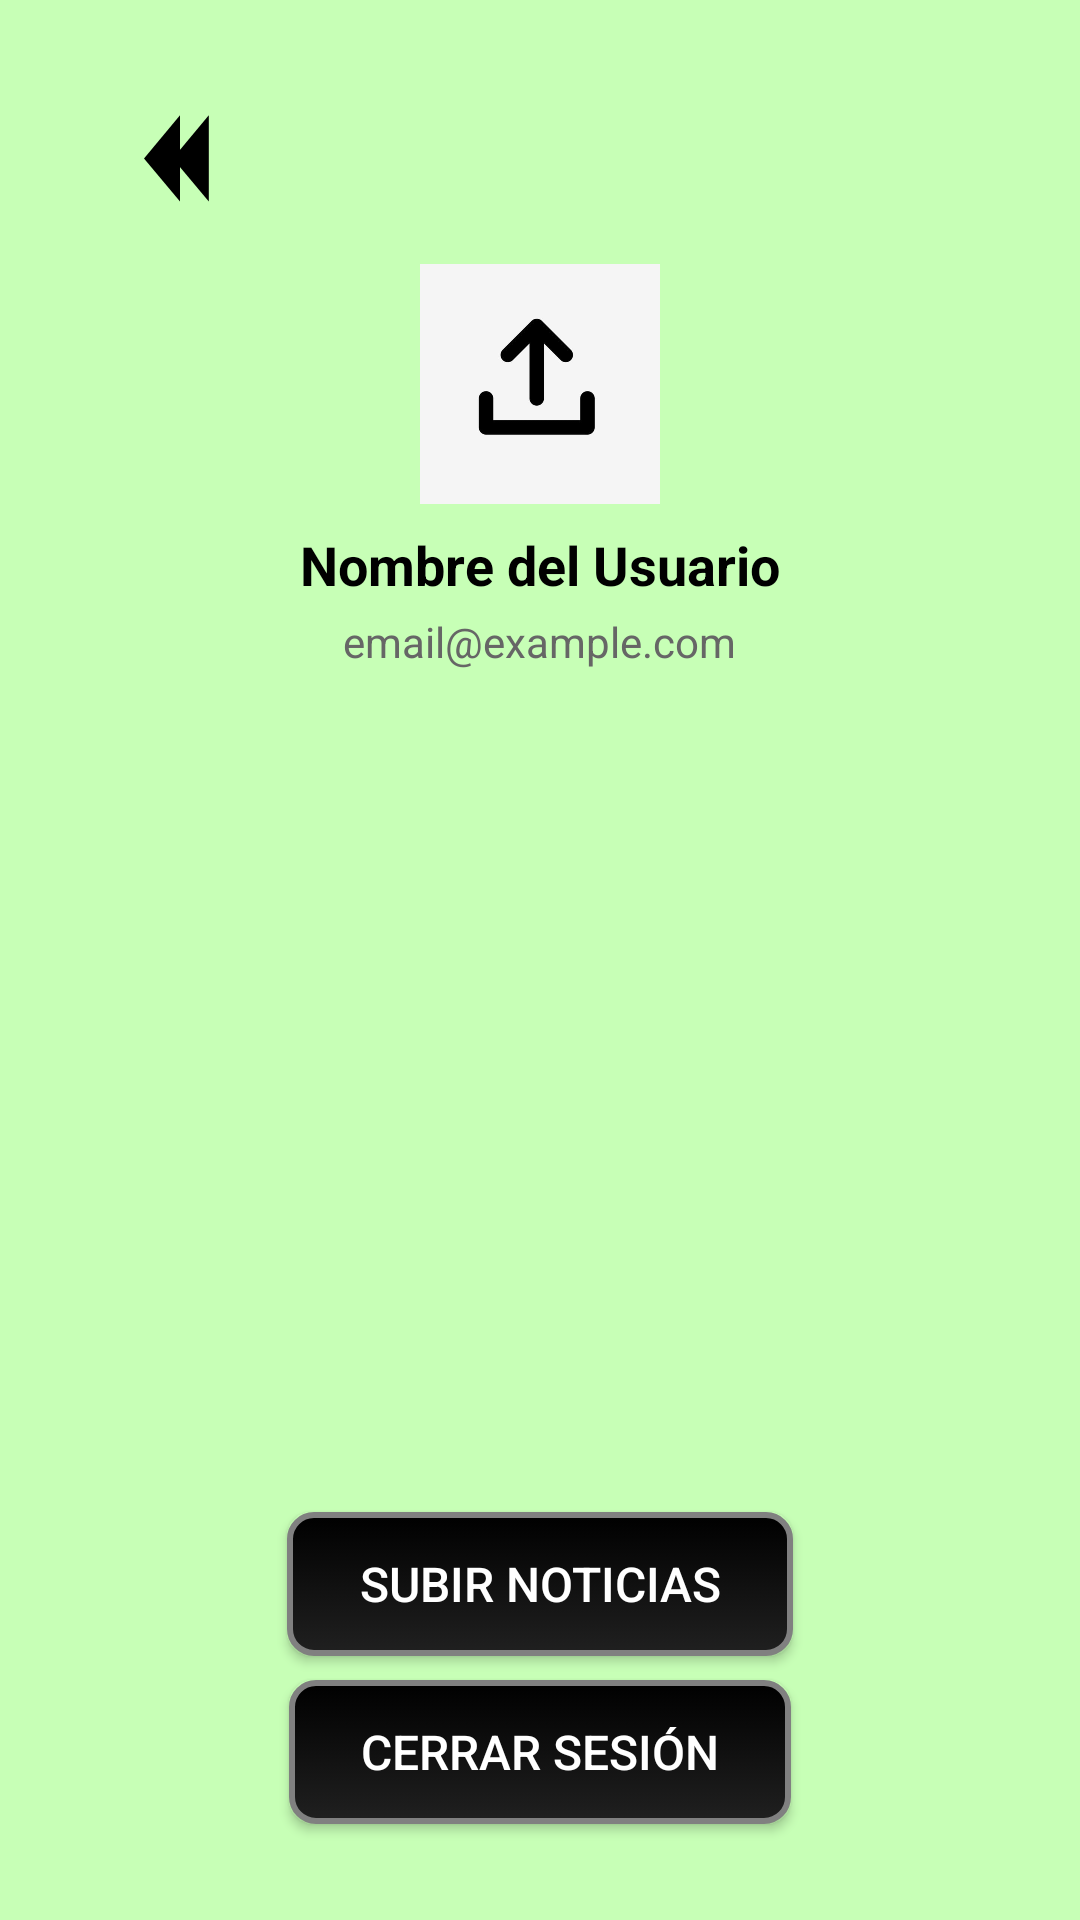

Icon click points for this 1080 x 1920 phone screenshot, format (x,y):
Volver atrás: (176,158)
